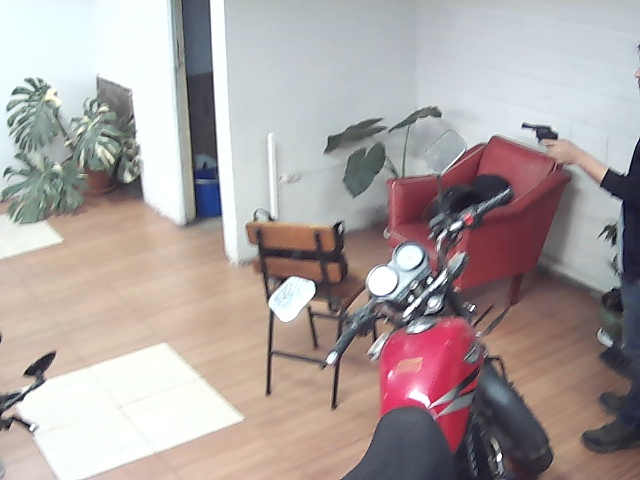pistola: (517, 117, 580, 170)
